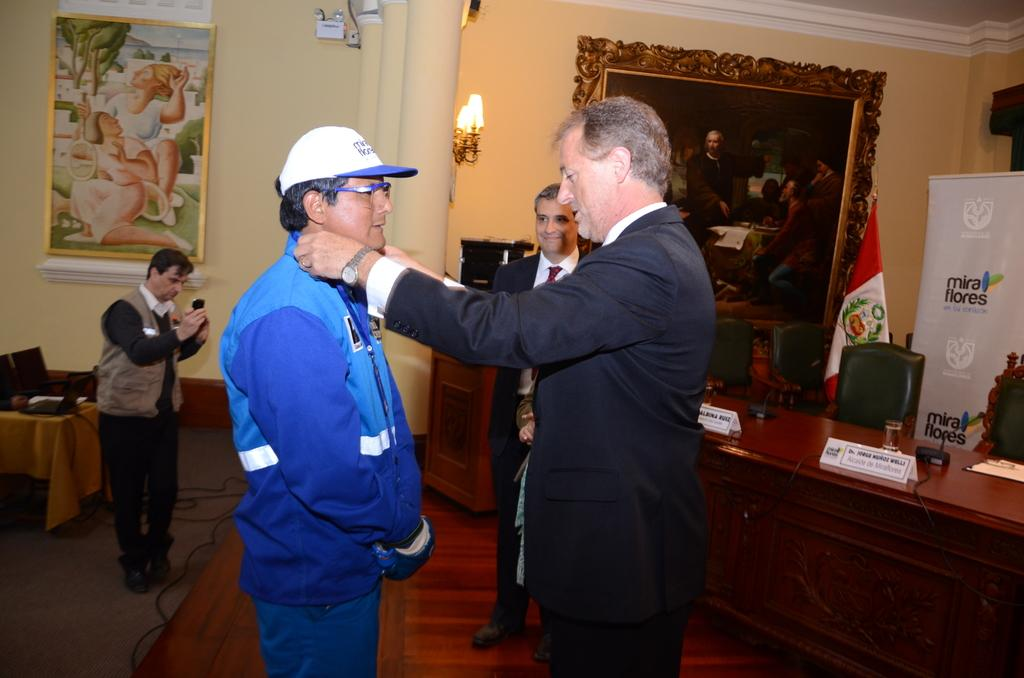Hat: (278, 126, 422, 200)
